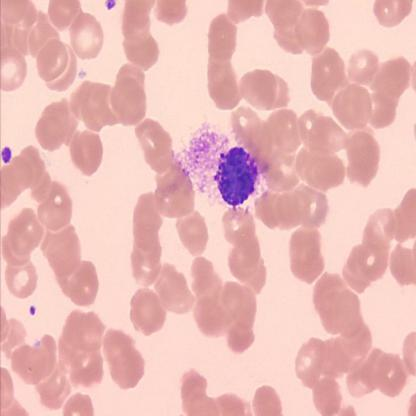Basophil: (214, 144, 262, 209)
